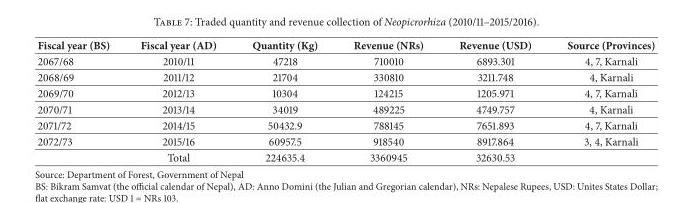table: (36, 36, 654, 164)
table column: (124, 36, 233, 164), (440, 36, 548, 164), (548, 36, 654, 164), (335, 36, 440, 164), (233, 36, 335, 164), (36, 36, 124, 164)
table column header: (36, 36, 654, 52)
table row: (36, 132, 654, 149), (36, 36, 654, 52), (36, 52, 654, 68), (36, 68, 654, 84), (36, 84, 654, 100), (36, 100, 654, 116), (36, 116, 654, 132), (36, 149, 654, 164)
table spanning cell: (36, 132, 124, 164)
